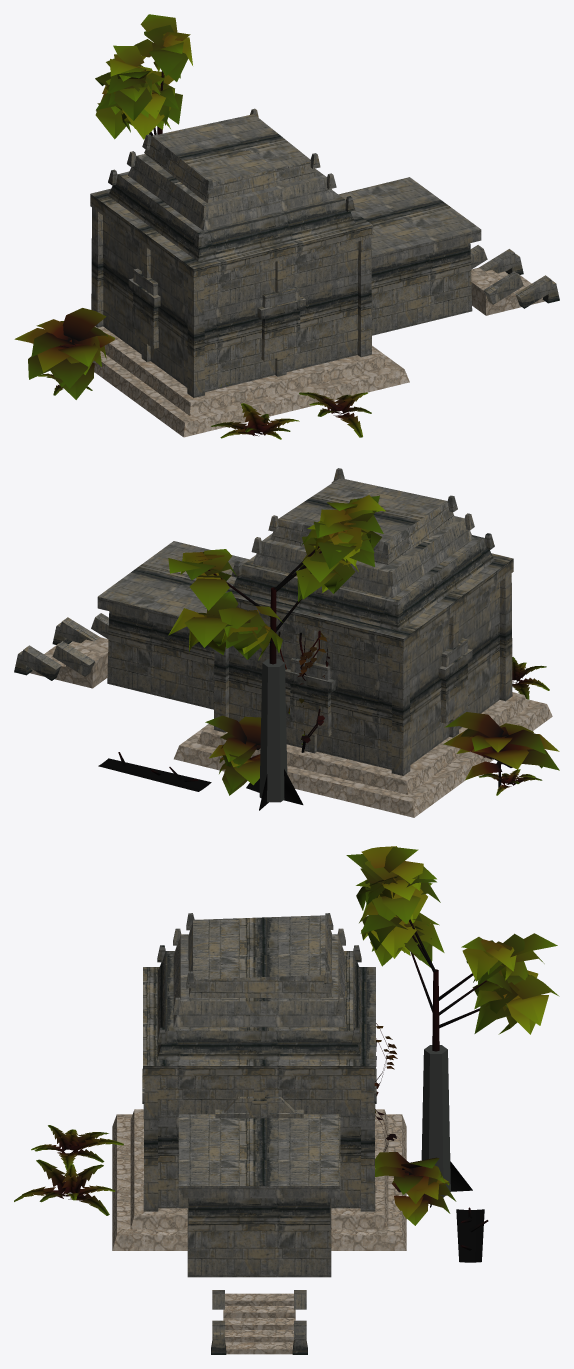
The model's file is prasat_ruin_03.glb.
3 views of the same model, one above another, from view 1: azimuth 30°, elevation 25°; view 2: azimuth 150°, elevation 25°; view 3: azimuth 270°, elevation 25° (orthographic). The views are drawn at different scales.
Visible parts, largest first — view 1: prasat_ruin_03, prasat_ruin_03_veg_00_broadleaf_b, prasat_ruin_03_veg_10_bush_c, prasat_ruin_03_veg_07_fern_b, prasat_ruin_03_veg_08_fern_c; view 2: prasat_ruin_03, prasat_ruin_03_veg_00_broadleaf_b, prasat_ruin_03_veg_10_bush_c, prasat_ruin_03-col, prasat_ruin_03_veg_09_bush_b, prasat_ruin_03_veg_13_fallen_log_a, prasat_ruin_03_veg_07_fern_b, prasat_ruin_03_veg_11_fern_a; view 3: prasat_ruin_03, prasat_ruin_03_veg_00_broadleaf_b, prasat_ruin_03-col, prasat_ruin_03_veg_09_bush_b, prasat_ruin_03_veg_08_fern_c, prasat_ruin_03_veg_07_fern_b, prasat_ruin_03_veg_13_fallen_log_a.
Boxes of the visible parts, box(x1,y1,x2,y2) form: prasat_ruin_03: box(90, 108, 559, 437); prasat_ruin_03_veg_00_broadleaf_b: box(95, 14, 192, 139); prasat_ruin_03_veg_10_bush_c: box(14, 308, 114, 399); prasat_ruin_03_veg_07_fern_b: box(211, 403, 299, 439); prasat_ruin_03_veg_08_fern_c: box(299, 392, 371, 437); prasat_ruin_03: box(14, 468, 552, 817); prasat_ruin_03_veg_00_broadleaf_b: box(168, 495, 385, 810); prasat_ruin_03_veg_10_bush_c: box(443, 712, 559, 788); prasat_ruin_03-col: box(259, 658, 287, 802); prasat_ruin_03_veg_09_bush_b: box(205, 715, 260, 795); prasat_ruin_03_veg_13_fallen_log_a: box(98, 752, 211, 791); prasat_ruin_03_veg_07_fern_b: box(512, 657, 549, 699); prasat_ruin_03_veg_11_fern_a: box(478, 769, 542, 795); prasat_ruin_03: box(112, 913, 406, 1354); prasat_ruin_03_veg_00_broadleaf_b: box(346, 846, 559, 1207); prasat_ruin_03-col: box(421, 1045, 450, 1197); prasat_ruin_03_veg_09_bush_b: box(375, 1152, 456, 1225); prasat_ruin_03_veg_08_fern_c: box(14, 1159, 115, 1215); prasat_ruin_03_veg_07_fern_b: box(31, 1125, 123, 1169); prasat_ruin_03_veg_13_fallen_log_a: box(456, 1207, 488, 1262).
Size of the model in its own units: 14.39 by 7.68 by 12.04.
14 materials, 14 textured.
